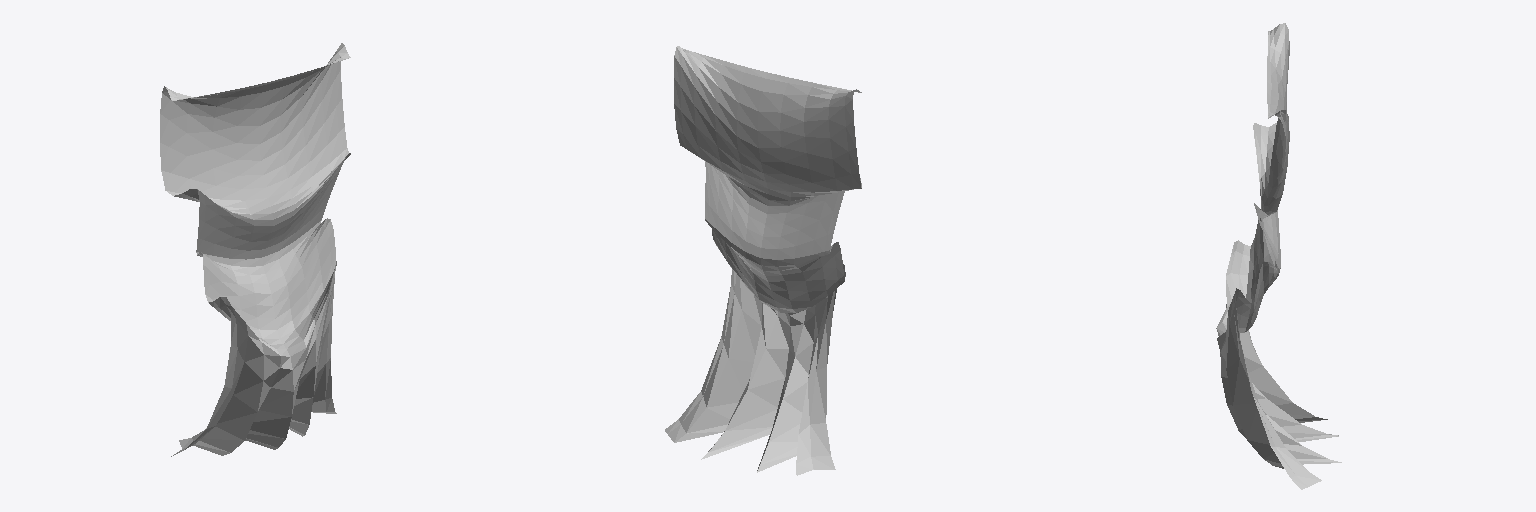
Rendered from _rape.obj.
3 renders of one model, left to right at view 1: azimuth 30°, elevation 25°; view 2: azimuth 150°, elevation 25°; view 3: azimuth 270°, elevation 25°, orthographic.
Parts seen in each view (by area): view 1: polySurface8 loftedSurface3; view 2: polySurface8 loftedSurface3; view 3: polySurface8 loftedSurface3.
Boxes of the visible parts, <box> form: polySurface8 loftedSurface3: <box>160,43,350,456</box>; polySurface8 loftedSurface3: <box>665,46,861,475</box>; polySurface8 loftedSurface3: <box>1216,23,1341,489</box>.
Bounding box in the file's own units: 7.26 × 14.13 × 4.3.